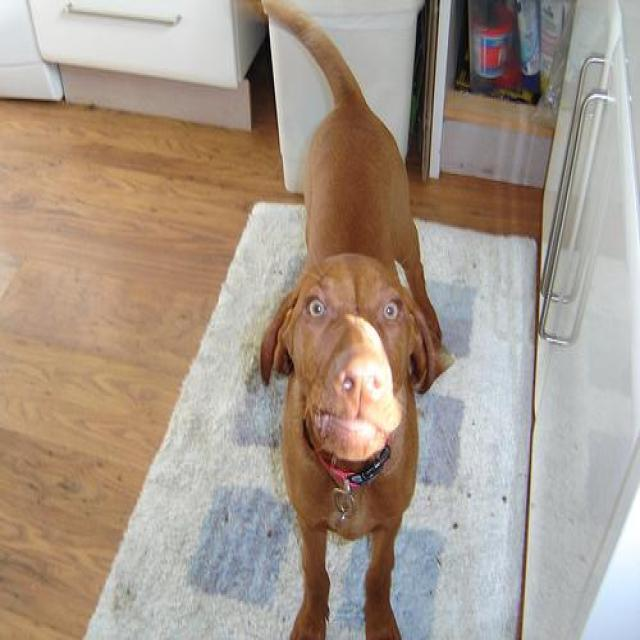vizsla: (257, 0, 452, 637)
